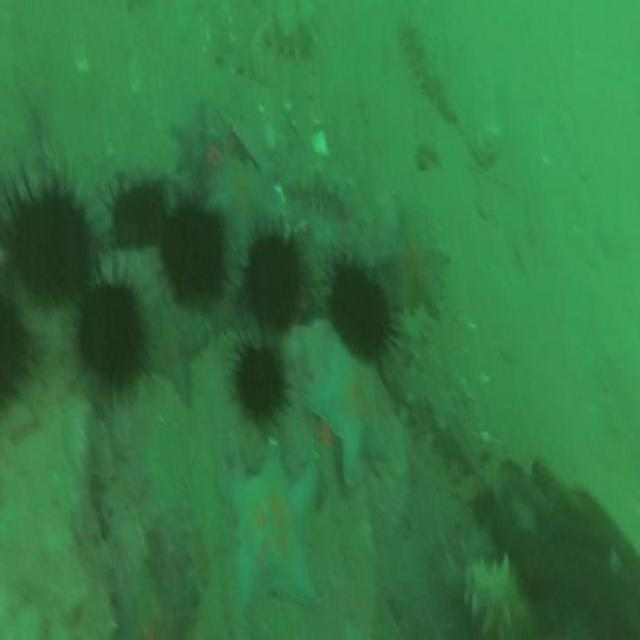echinus: (13, 196, 90, 308), (78, 281, 146, 387), (165, 207, 228, 294), (245, 236, 302, 327), (332, 266, 388, 358), (114, 178, 164, 250), (0, 295, 28, 401), (237, 346, 279, 409)
holothurian: (394, 367, 484, 477), (394, 18, 458, 118), (454, 559, 524, 640), (282, 160, 354, 222), (263, 6, 317, 65)
starfish: (220, 447, 322, 612), (310, 354, 388, 480), (378, 215, 450, 310), (112, 565, 198, 640), (210, 158, 279, 247), (148, 308, 208, 402), (171, 104, 217, 172)
